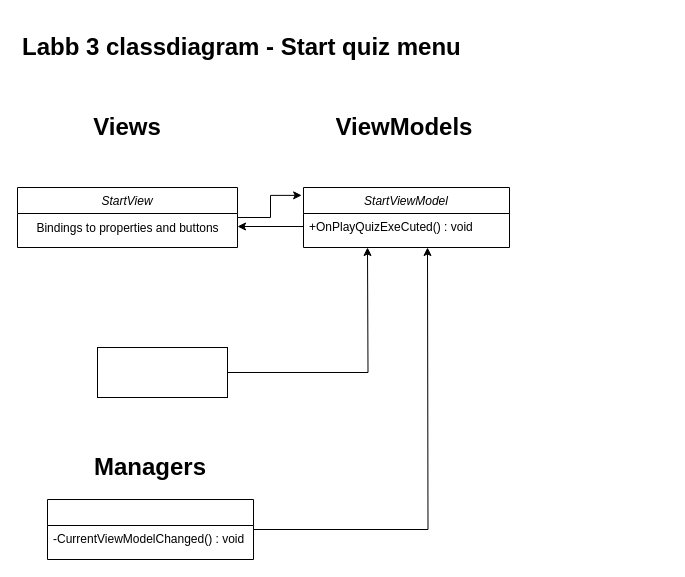
This 685x577 diagram has some shape labels left out. The box of each missing label's shape, as (x1, y1, x2, y2) in pixels:
NavigationManager: (46, 498, 254, 560)
«interface» ObservableObject: (96, 346, 228, 398)
